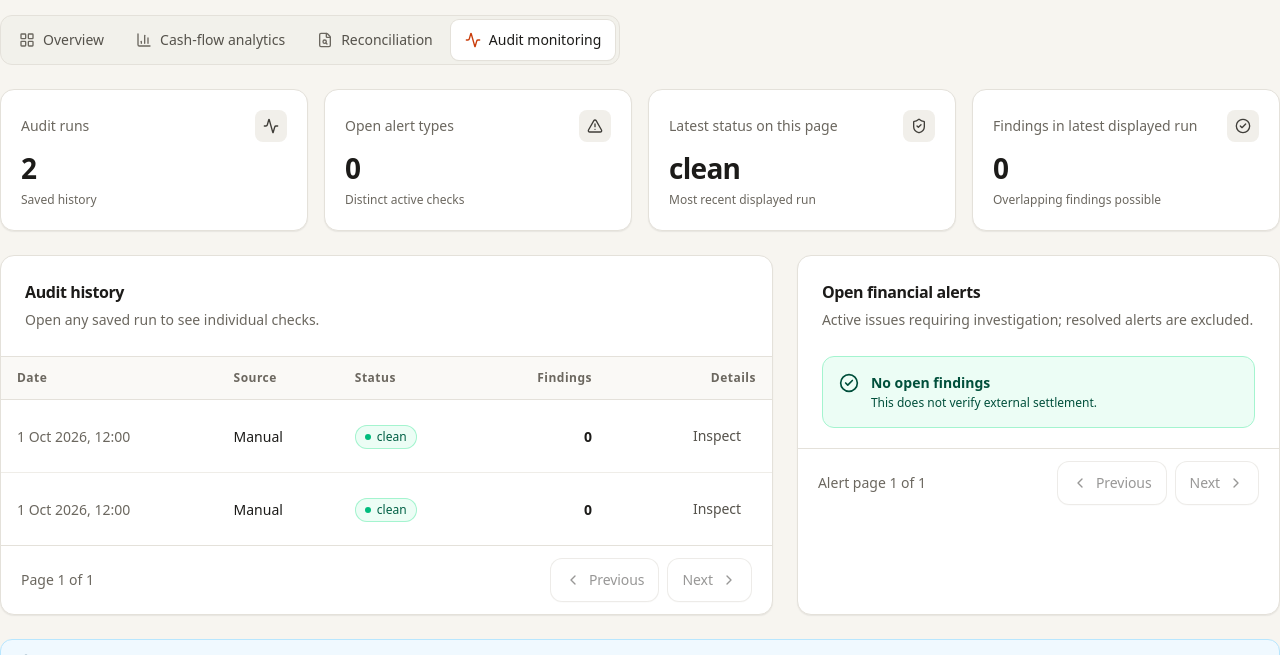
Test: financial audit detail inspection › retires pending detail requests when switching runs or closing the panel
This screenshot has width=1280, height=655.
Click the button with aria-label "Inspect audit 1" at (717, 436), box [678, 414, 756, 458]
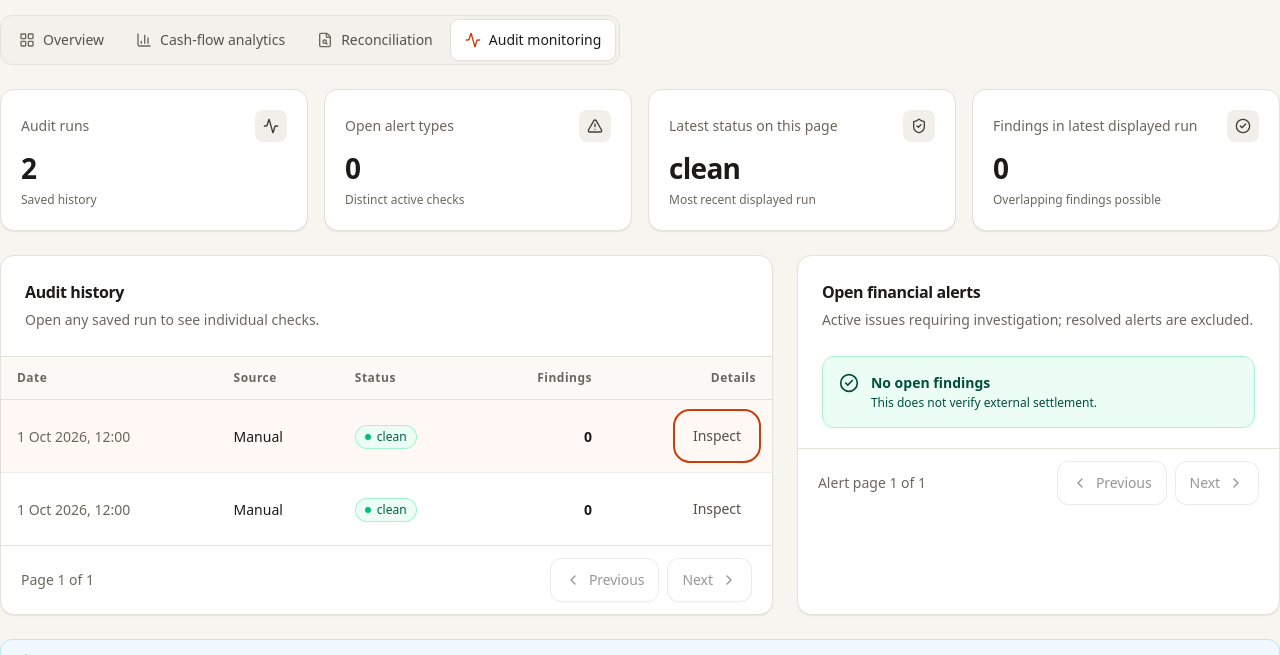
Click the button with aria-label "Inspect audit 2" at (717, 509), box [678, 487, 756, 531]
(page scrolled)
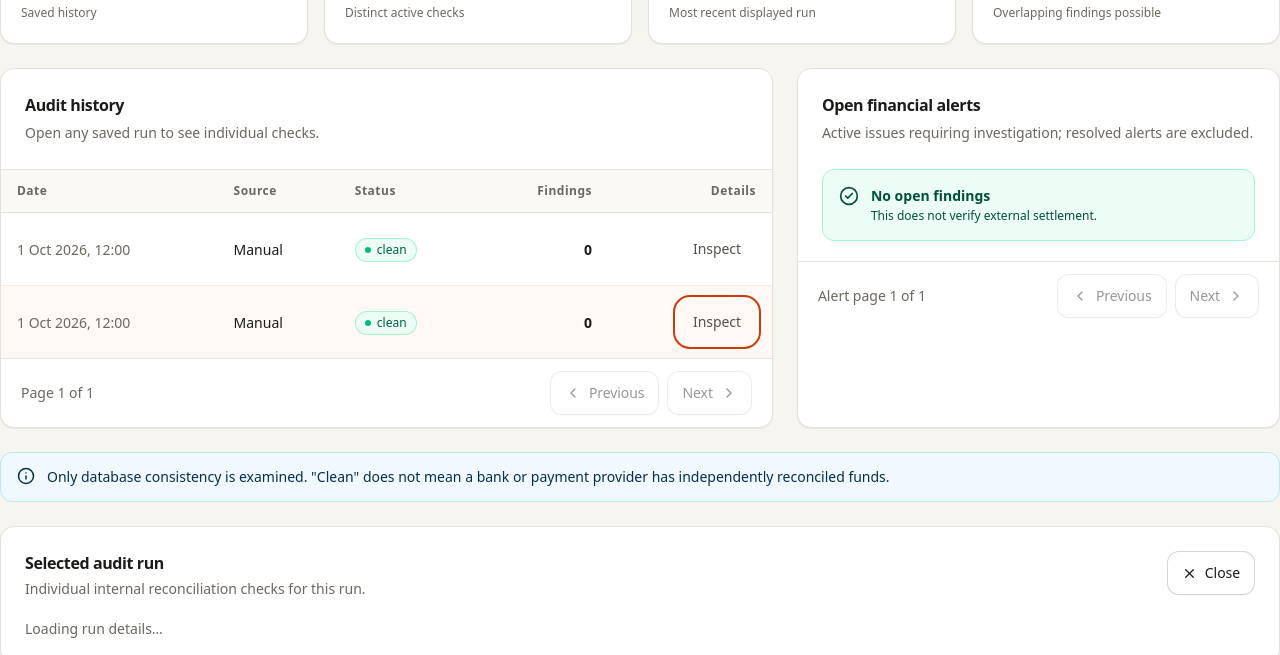
Now the text "Loading run details…" is shown, box [25, 619, 163, 638]
Click the button "Close" at (1211, 573), box [1167, 551, 1255, 595]
(page scrolled)
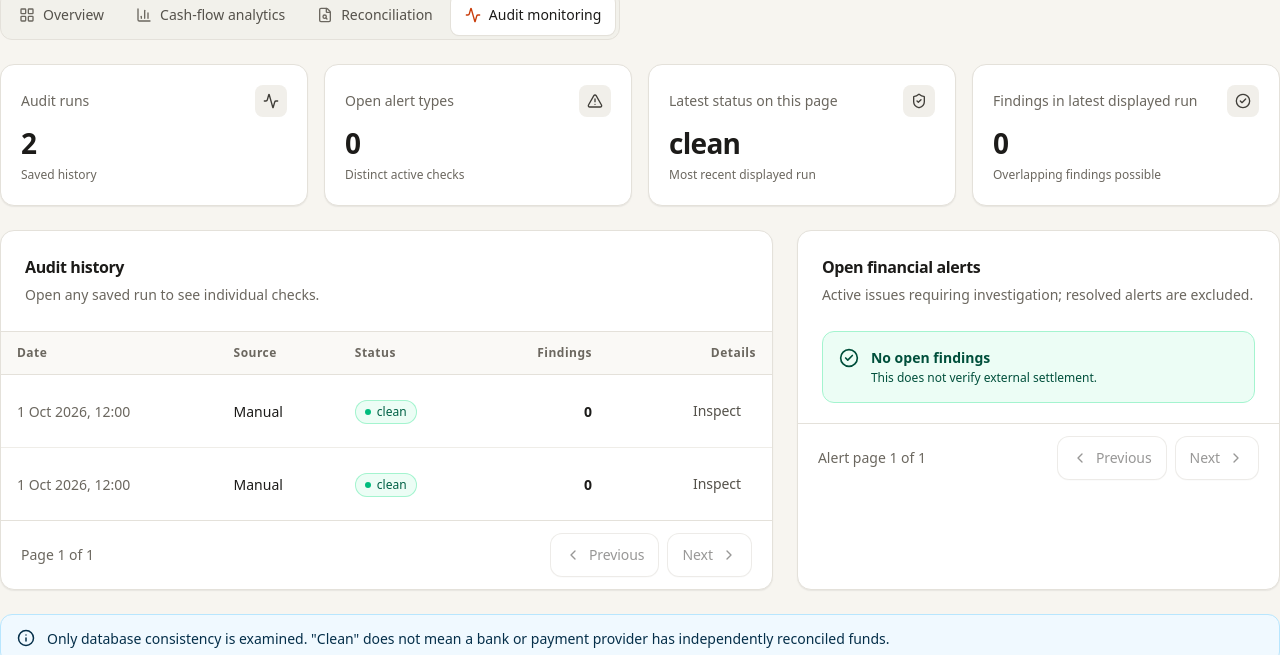
Now the heading "Selected audit run" is gone
